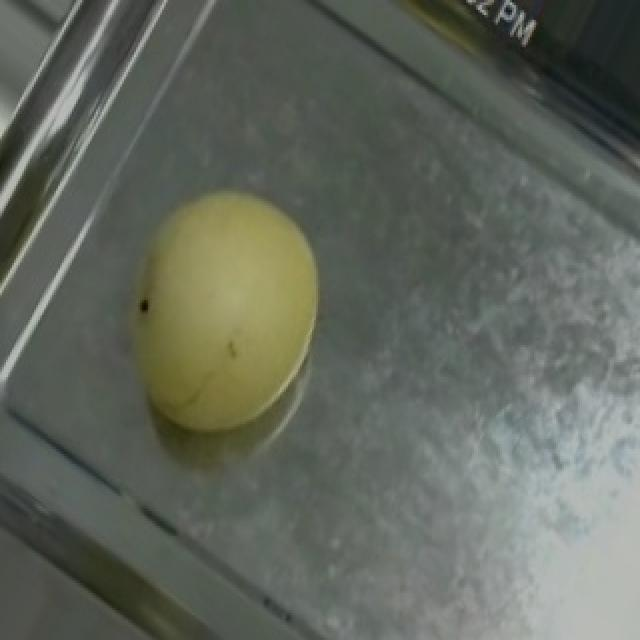Fruit: (74, 149, 362, 471)
